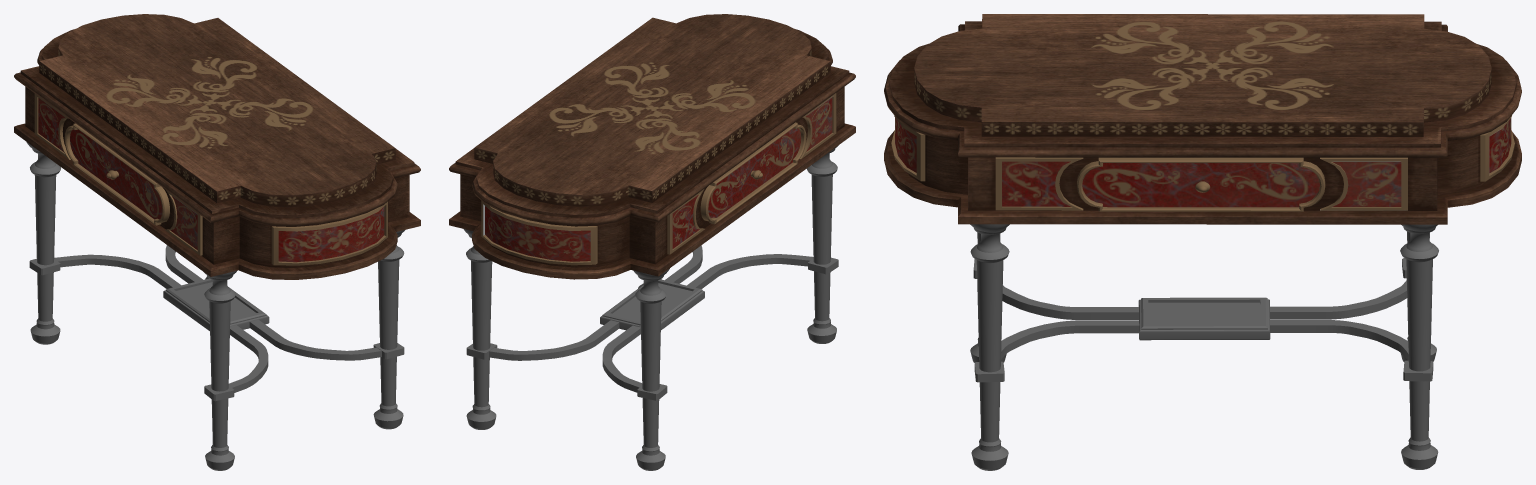
Rendered from Library_Table.fbx.
3 views of the same model, side by side, from view 1: azimuth 30°, elevation 25°; view 2: azimuth 150°, elevation 25°; view 3: azimuth 270°, elevation 25° (orthographic). The views are drawn at different scales.
Visible parts, largest first — view 1: pasted__pCube12, group31_pasted__group28_pasted__pasted__pCylinder17, pCube8; view 2: pasted__pCube12, group31_pasted__group28_pasted__pasted__pCylinder17, pCube8; view 3: pasted__pCube12, pCube8, group31_pasted__group28_pasted__pasted__pCylinder17.
Part boxes in pixels (bbox=[...]): pasted__pCube12: bbox=[14, 14, 420, 279]; group31_pasted__group28_pasted__pasted__pCylinder17: bbox=[26, 142, 404, 470]; pCube8: bbox=[29, 245, 404, 401]; pasted__pCube12: bbox=[449, 14, 855, 279]; group31_pasted__group28_pasted__pasted__pCylinder17: bbox=[463, 145, 838, 470]; pCube8: bbox=[466, 245, 838, 400]; pasted__pCube12: bbox=[884, 14, 1521, 224]; pCube8: bbox=[973, 258, 1433, 382]; group31_pasted__group28_pasted__pasted__pCylinder17: bbox=[970, 224, 1438, 470].
Size of the model in its own units: 97.47 by 118 by 197.
Materials: 3 (1 with a texture image).
